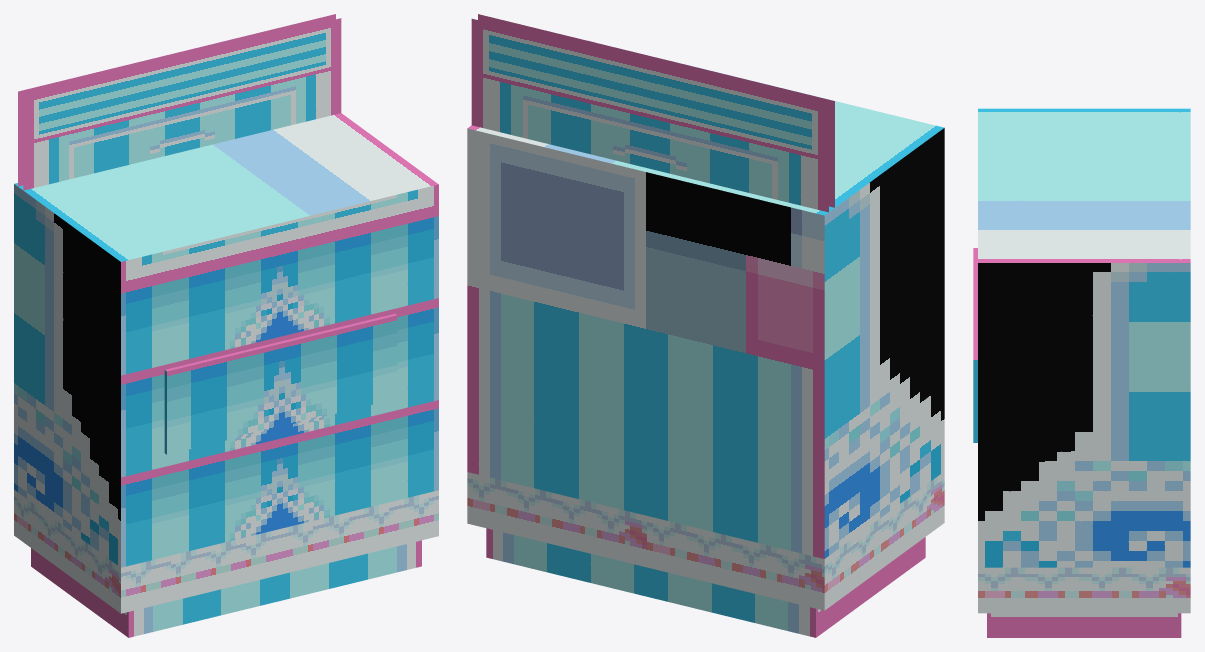
3 renders of one model, left to right at view 1: azimuth 30°, elevation 25°; view 2: azimuth 150°, elevation 25°; view 3: azimuth 270°, elevation 25°, orthographic. The views are drawn at different scales.
Parts seen in each view (by area): view 1: 3862kg3_ser43; view 2: 3862kg3_ser43; view 3: 3862kg3_ser43.
Boxes of the visible parts, <box> form: 3862kg3_ser43: <box>14,14,438,637</box>; 3862kg3_ser43: <box>467,14,944,637</box>; 3862kg3_ser43: <box>973,108,1190,637</box>.
Size of the model in its own units: 1.21 by 1.73 by 0.719.
Materials: 3 (3 with a texture image).
